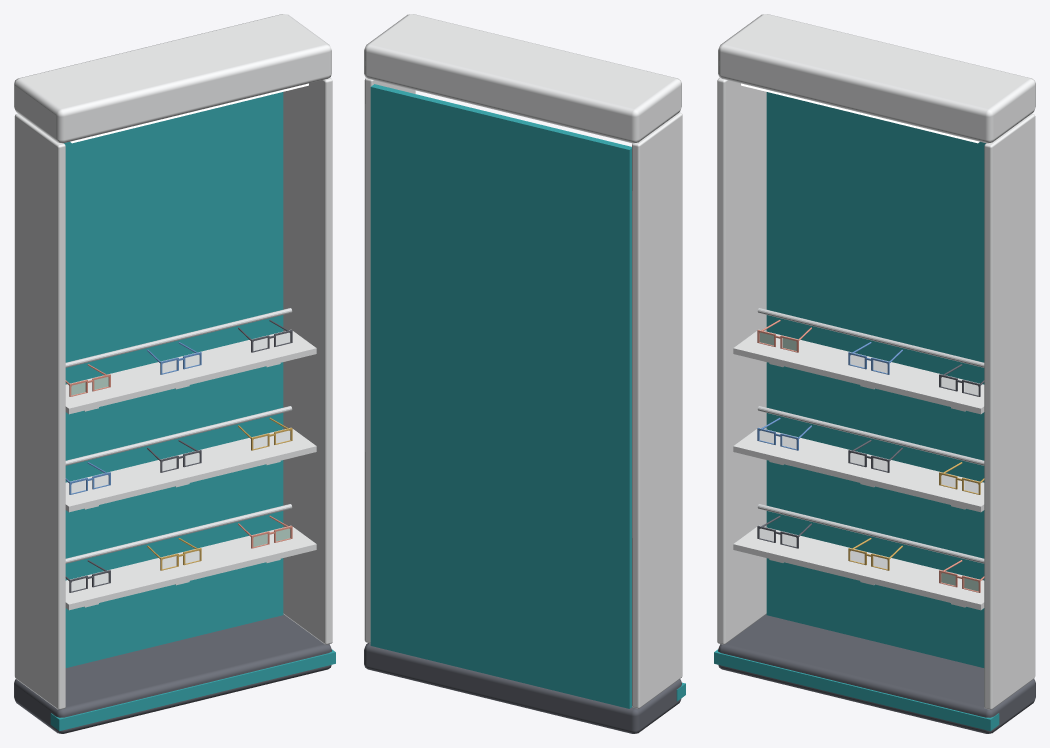
3 renders of one model, left to right at view 1: azimuth 30°, elevation 25°; view 2: azimuth 150°, elevation 25°; view 3: azimuth 330°, elevation 25°, orthographic.
Visible parts, largest first — view 1: frame-display-bay-sparse; view 2: frame-display-bay-sparse; view 3: frame-display-bay-sparse.
Part boxes in pixels (x1,y1,x2,y2): frame-display-bay-sparse: (14,14,335,733); frame-display-bay-sparse: (364,14,685,733); frame-display-bay-sparse: (714,14,1035,733).
Size of the model in its own units: 1 by 2.17 by 0.3055.
